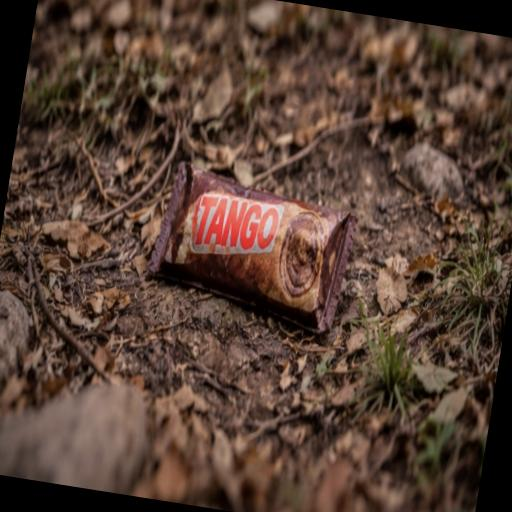tango: (112, 100, 388, 431)
